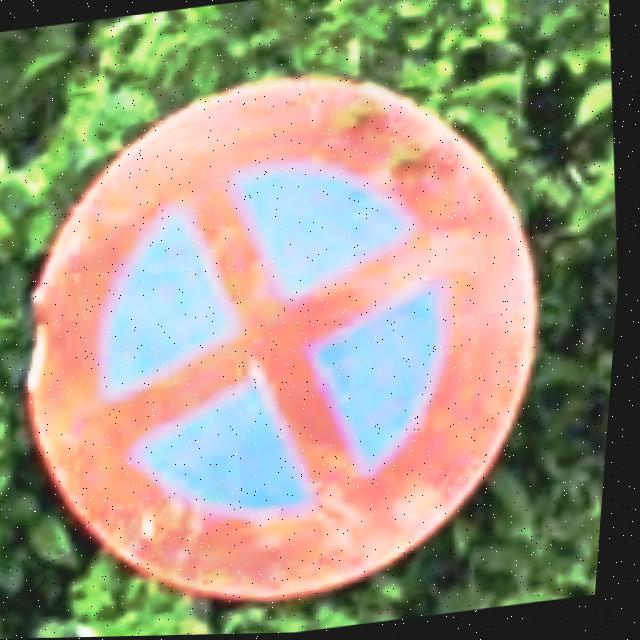nopark: (33, 82, 544, 606)
